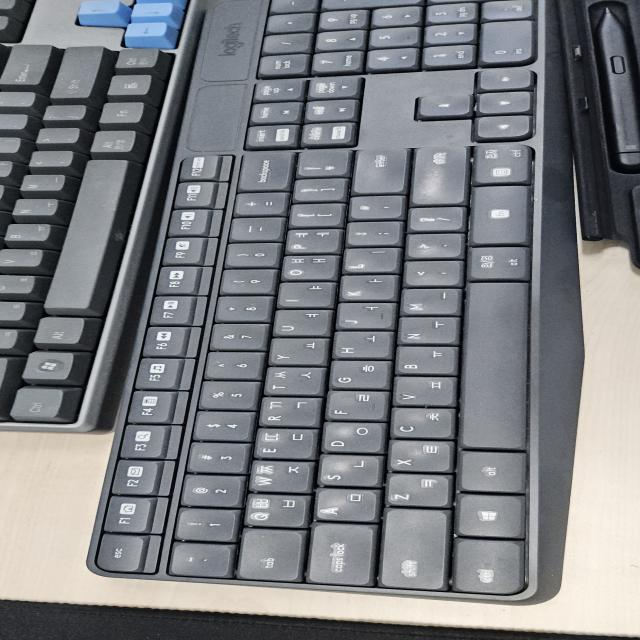Keyboard: (3, 1, 635, 613)
